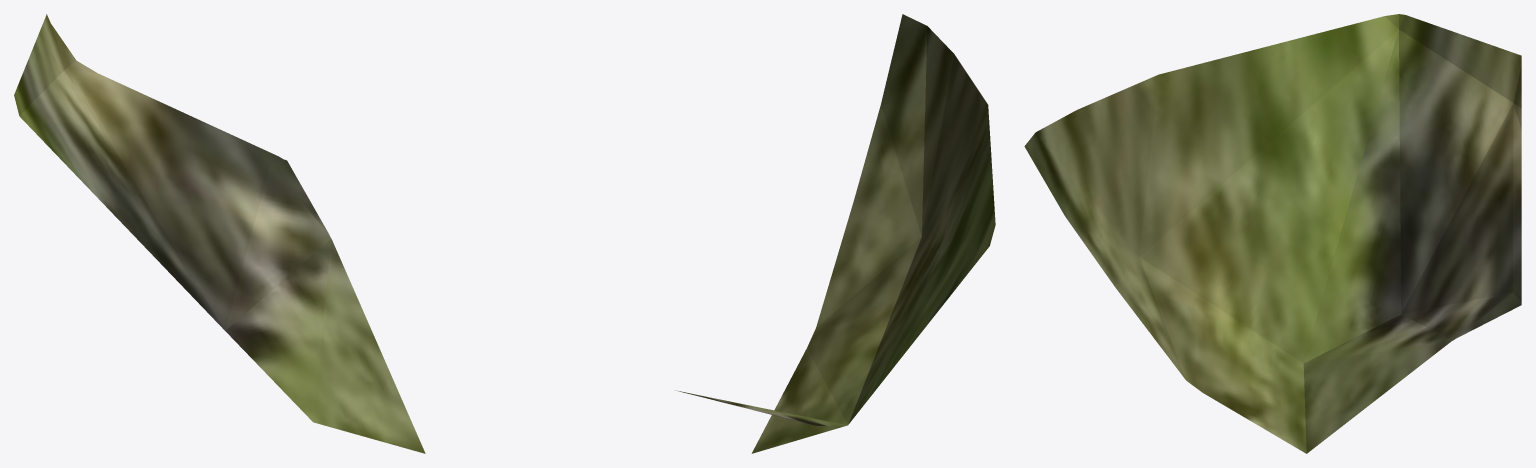
3 views of the same model, side by side, from view 1: azimuth 30°, elevation 25°; view 2: azimuth 150°, elevation 25°; view 3: azimuth 270°, elevation 25° (orthographic). The views are drawn at different scales.
Size of the model in its own units: 0.8339 by 0.9033 by 1.32.
Materials: 1 (1 with a texture image).
